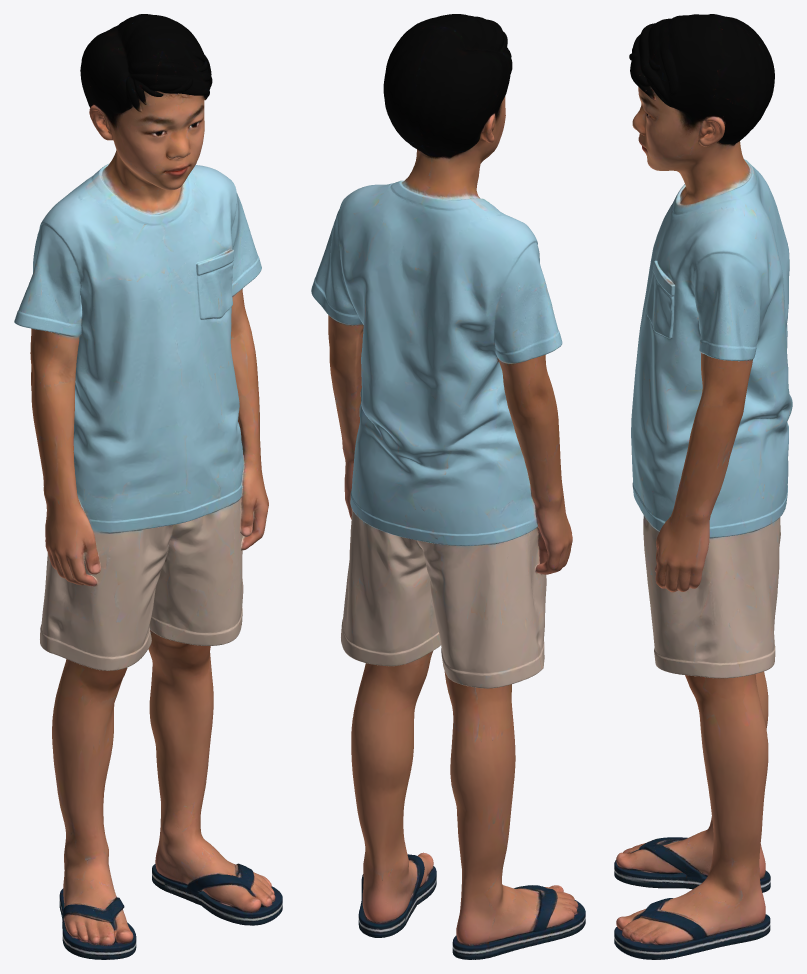
Rendered from zavyoung.glb.
3 views of the same model, side by side, from view 1: azimuth 30°, elevation 25°; view 2: azimuth 150°, elevation 25°; view 3: azimuth 270°, elevation 25° (orthographic).
Parts seen in each view (by area): view 1: mesh_node; view 2: mesh_node; view 3: mesh_node.
Part boxes in pixels (x1,y1,x2,y2): mesh_node: (14, 14, 282, 959); mesh_node: (311, 14, 585, 959); mesh_node: (614, 14, 792, 959).
Size of the model in its own units: 0.5455 by 1.9 by 0.3446.
Materials: 1 (1 with a texture image).
